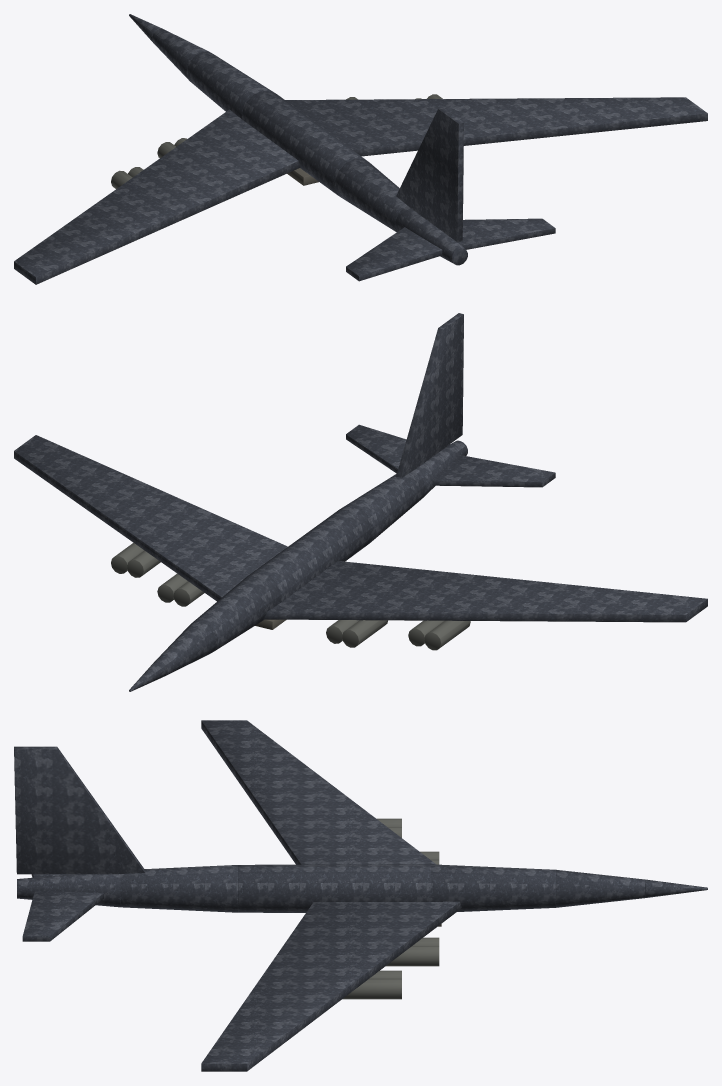
The model's file is air_e1_us_bomber_LOD0.glb.
3 renders of one model, top to bottom at view 1: azimuth 30°, elevation 25°; view 2: azimuth 150°, elevation 25°; view 3: azimuth 270°, elevation 25°, orthographic. The views are drawn at different scales.
Parts seen in each view (by area): view 1: air_e1_us_bomber_LOD0_body, air_e1_us_bomber_LOD0_gun; view 2: air_e1_us_bomber_LOD0_body, air_e1_us_bomber_LOD0_gun; view 3: air_e1_us_bomber_LOD0_body, air_e1_us_bomber_LOD0_gun.
Boxes of the visible parts, x1=… form: air_e1_us_bomber_LOD0_body: x1=14, y1=14, x2=707, y2=284; air_e1_us_bomber_LOD0_gun: x1=111, y1=94, x2=442, y2=188; air_e1_us_bomber_LOD0_body: x1=14, y1=313, x2=707, y2=691; air_e1_us_bomber_LOD0_gun: x1=111, y1=543, x2=470, y2=650; air_e1_us_bomber_LOD0_body: x1=14, y1=720, x2=707, y2=1071; air_e1_us_bomber_LOD0_gun: x1=342, y1=818, x2=439, y2=999.
Size of the model in its own units: 56.4 by 13.1 by 48.2.
3 materials, 1 textured.
